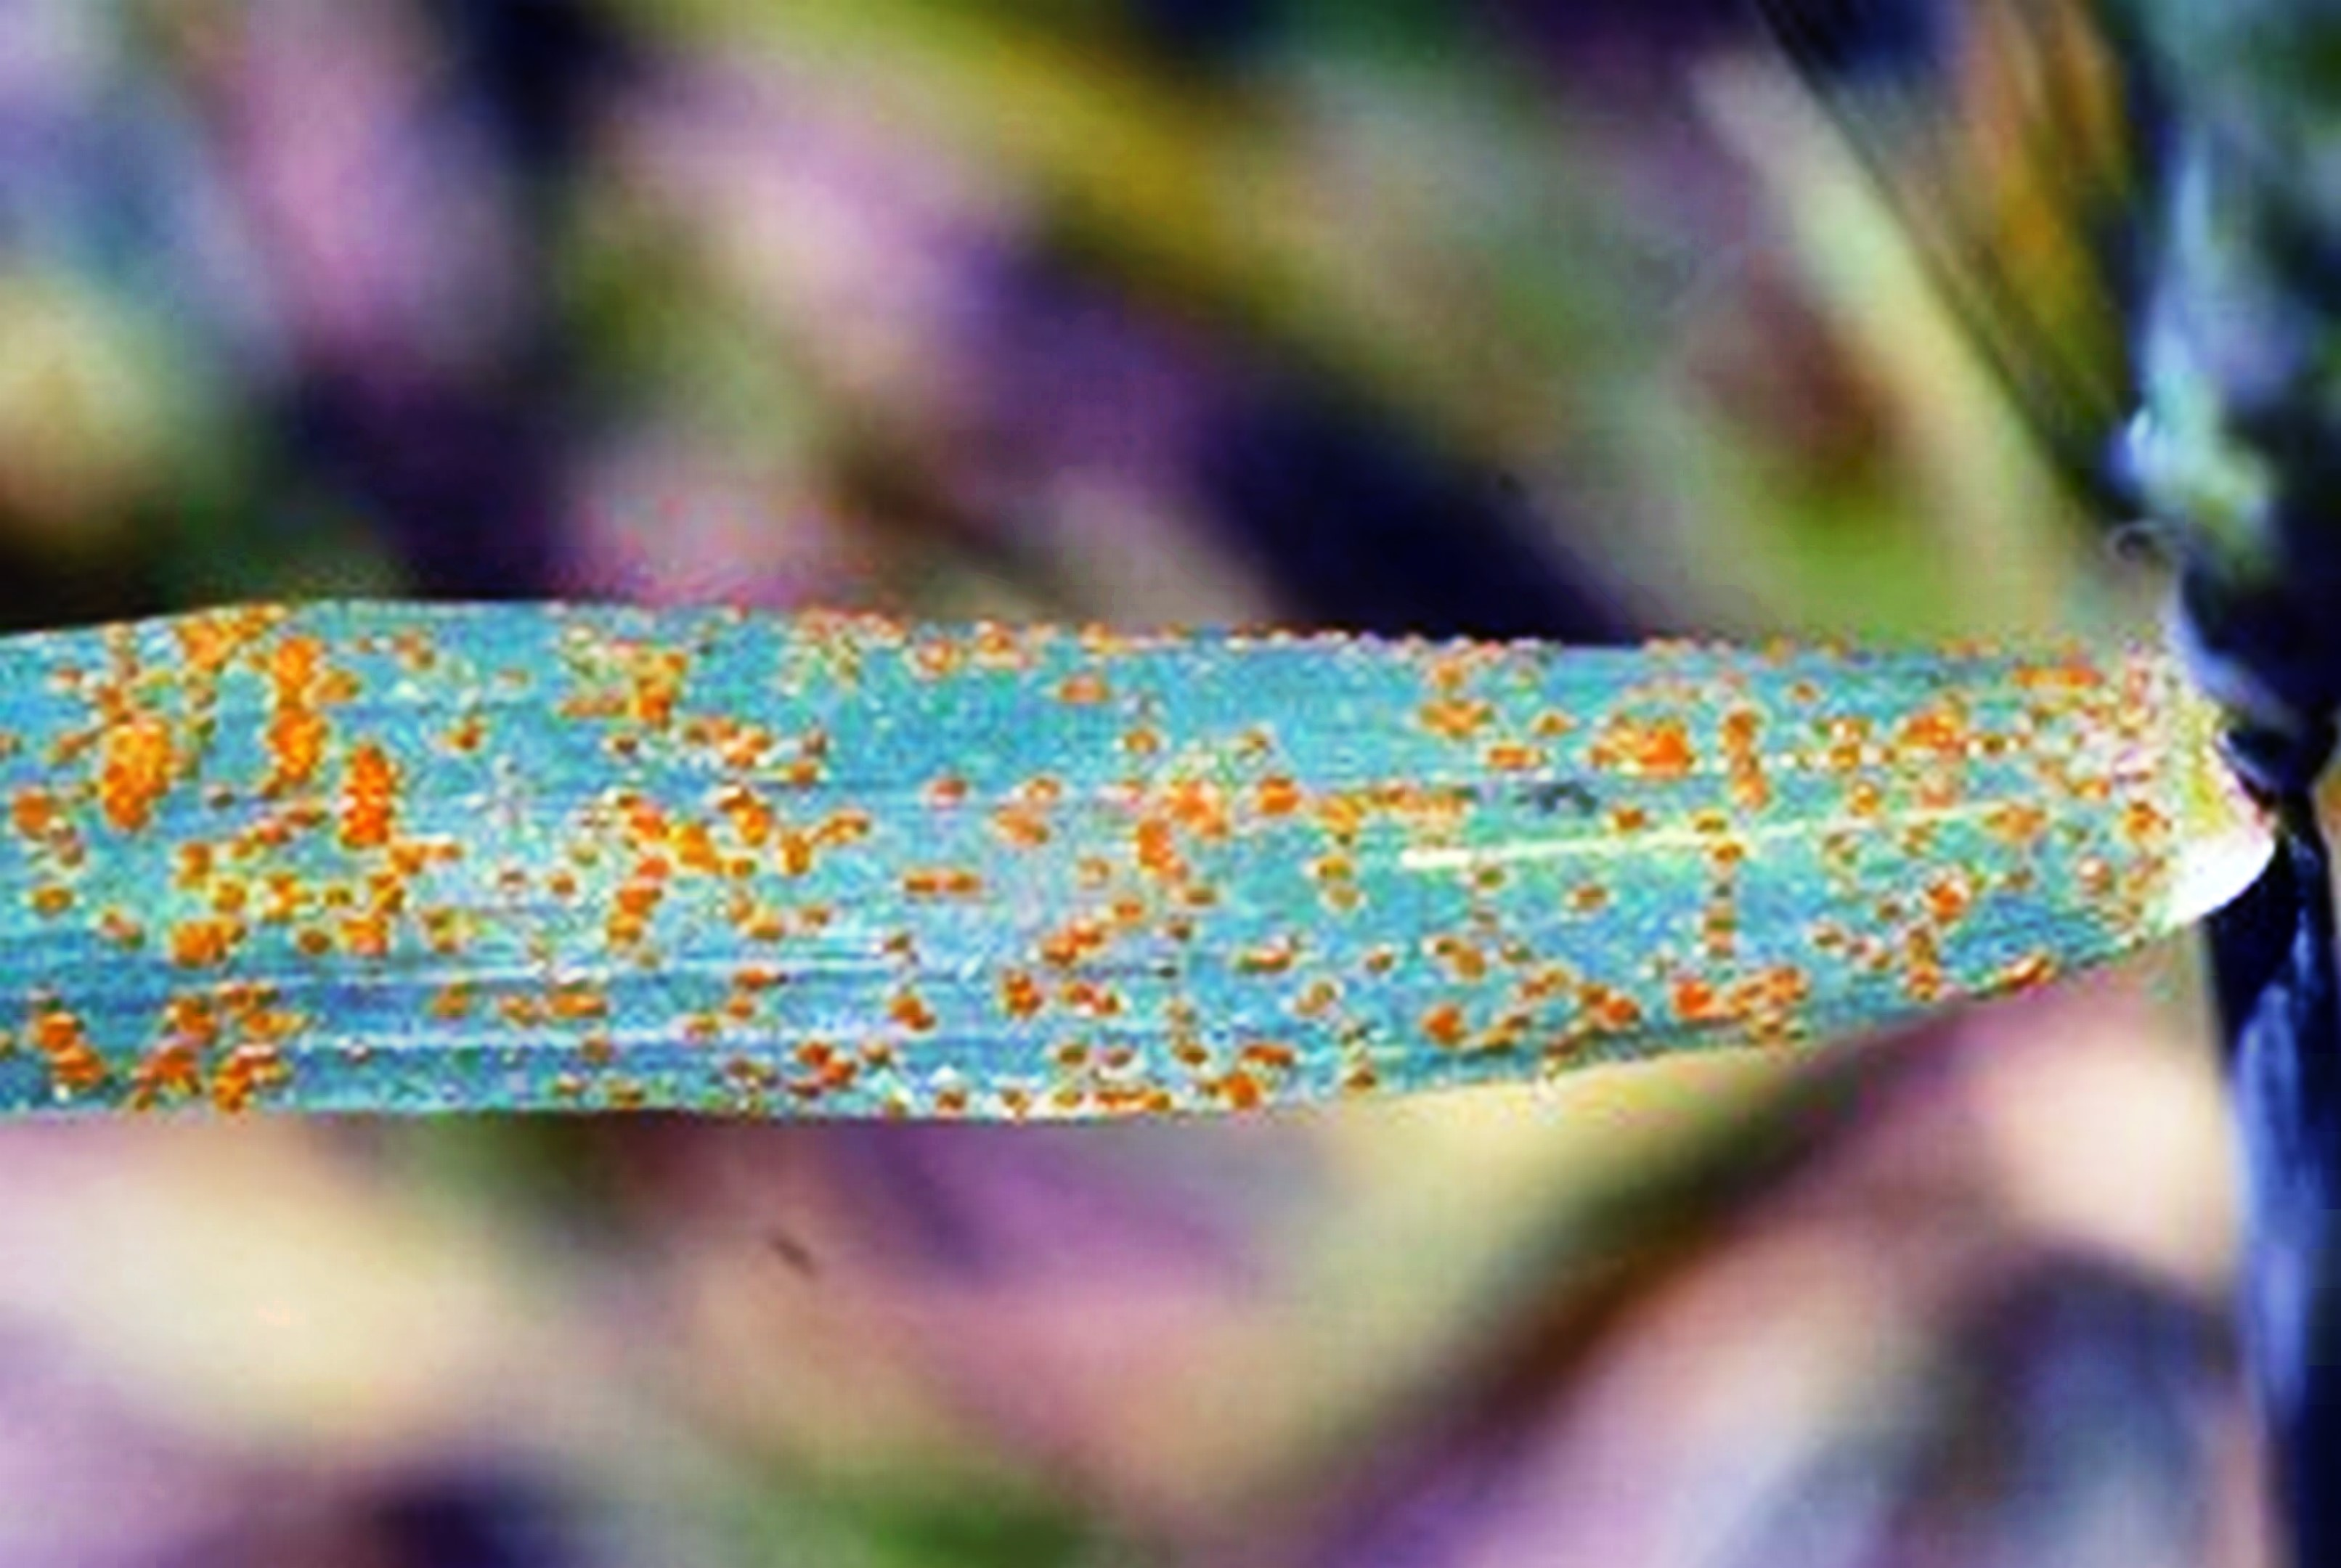Leaf Rust: (129, 563, 1918, 1081)
